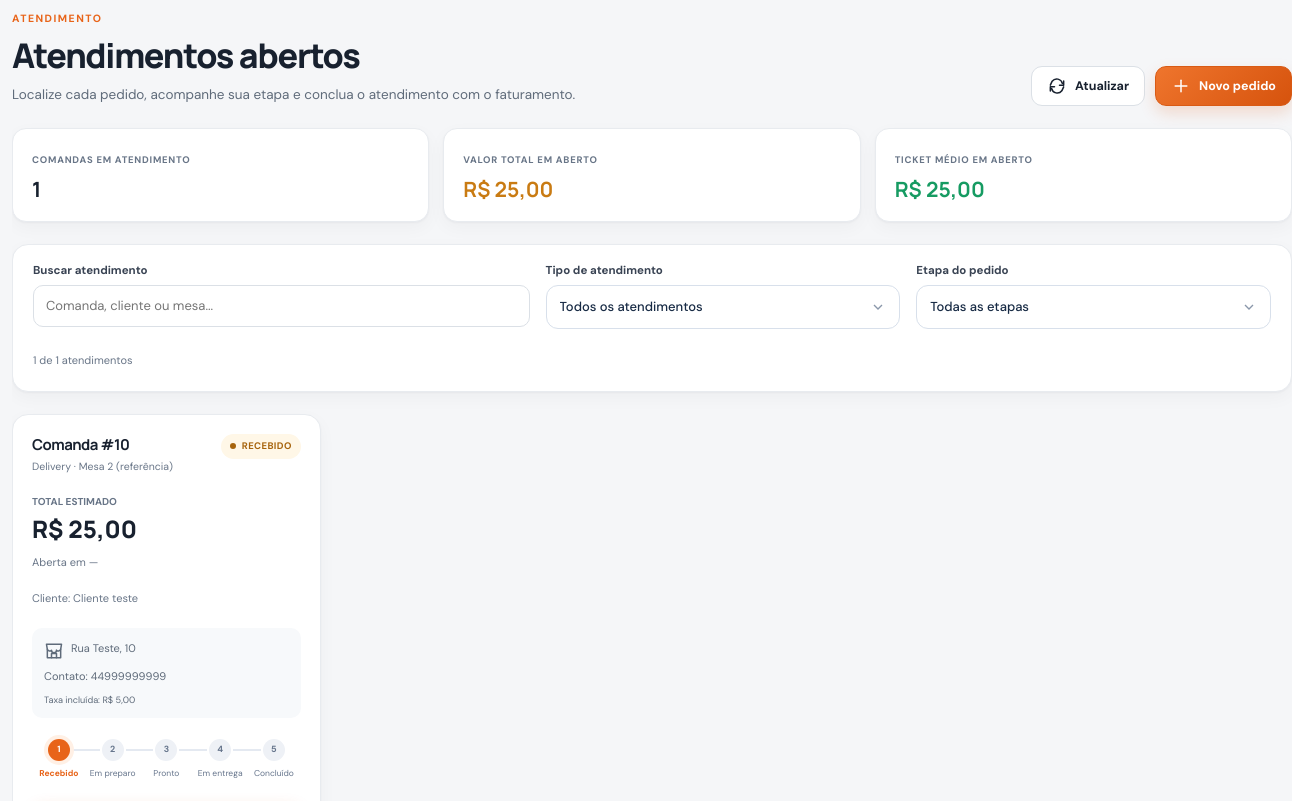
Test: busca e etapa filtram a lista e podem ser limpas
This screenshot has width=1292, height=801.
Expected: the heading "Comanda #10" is shown, [32,434,129,455]
Step 1. Type "inexistente" into the search field labelled "Buscar atendimento" → (281, 306), box [33,285,530,327]
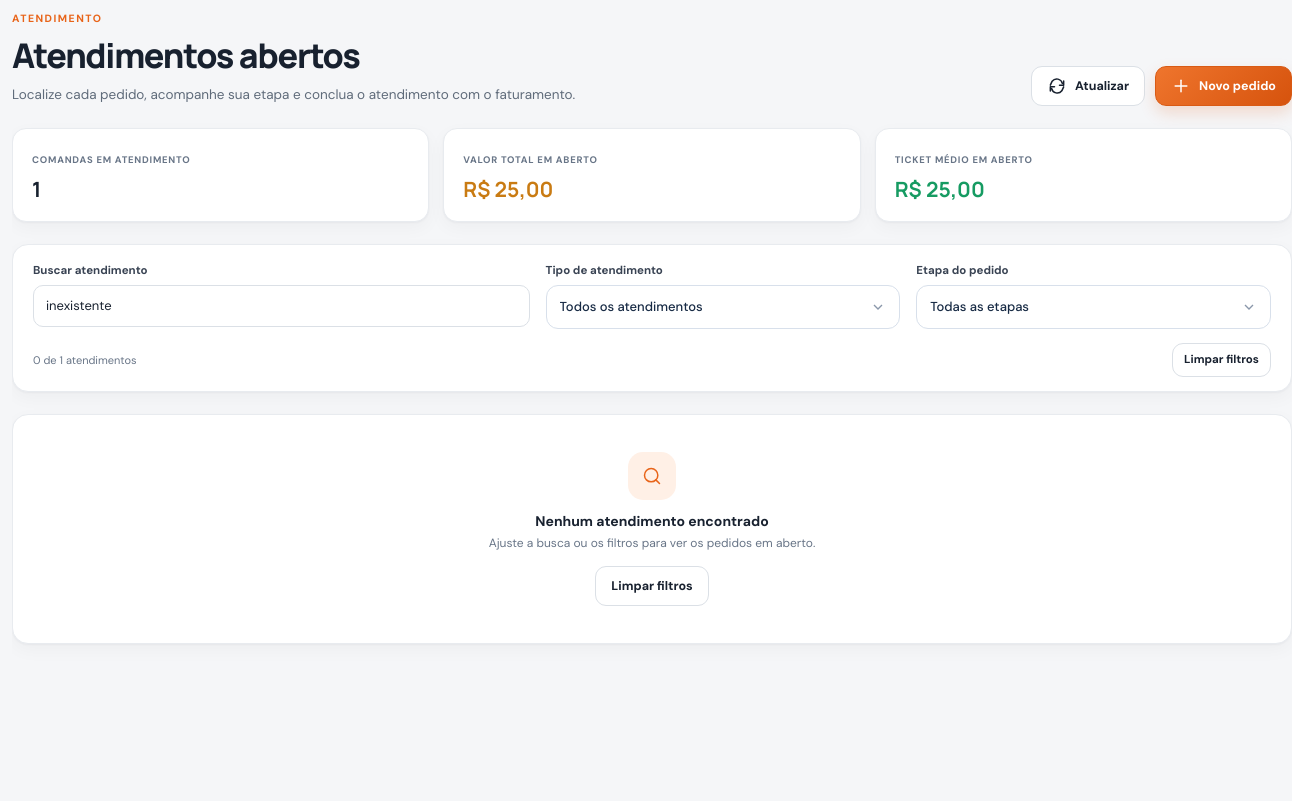
Expected: the text "Nenhum atendimento encontrado" is shown, [535,512,769,530]
Step 2. Click the button "Limpar filtros" below "Etapa do pedido" → (1222, 360), box [1172,343,1271,377]
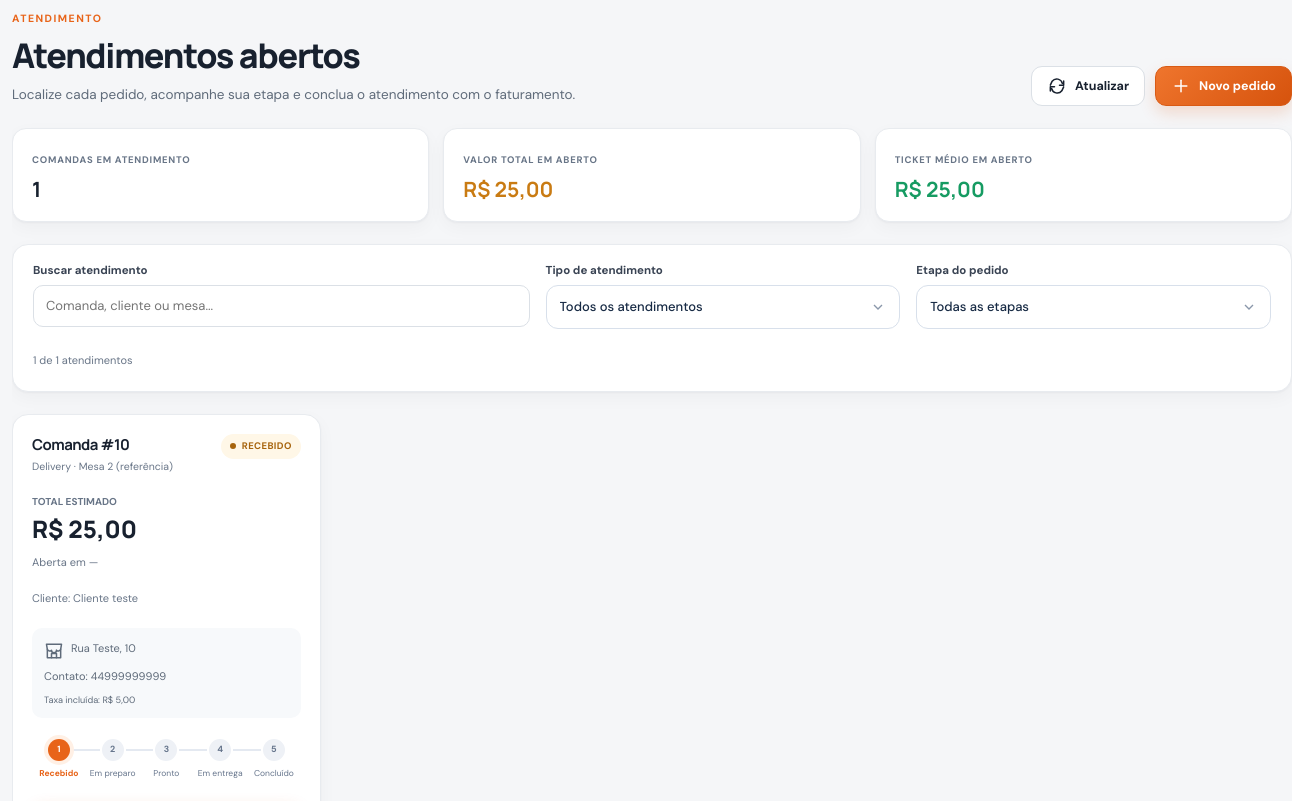
Step 3. Type "cliente" into the search field labelled "Buscar atendimento" → (281, 306), box [33,285,530,327]
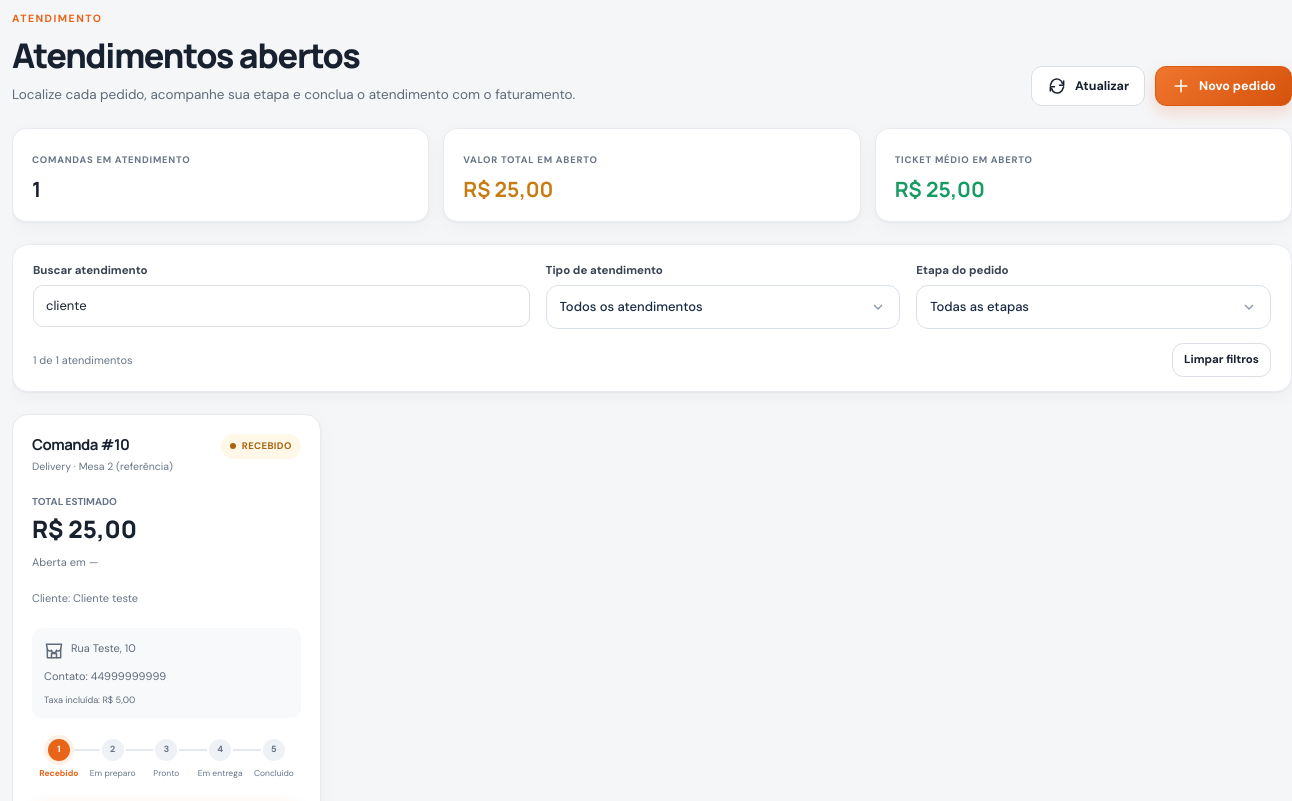
Expected: the heading "Comanda #10" is shown, [32,434,129,455]
Step 4. Select "Concluído" in the dropdown labelled "Etapa do pedido" → (962, 270), box [916,263,1009,278]
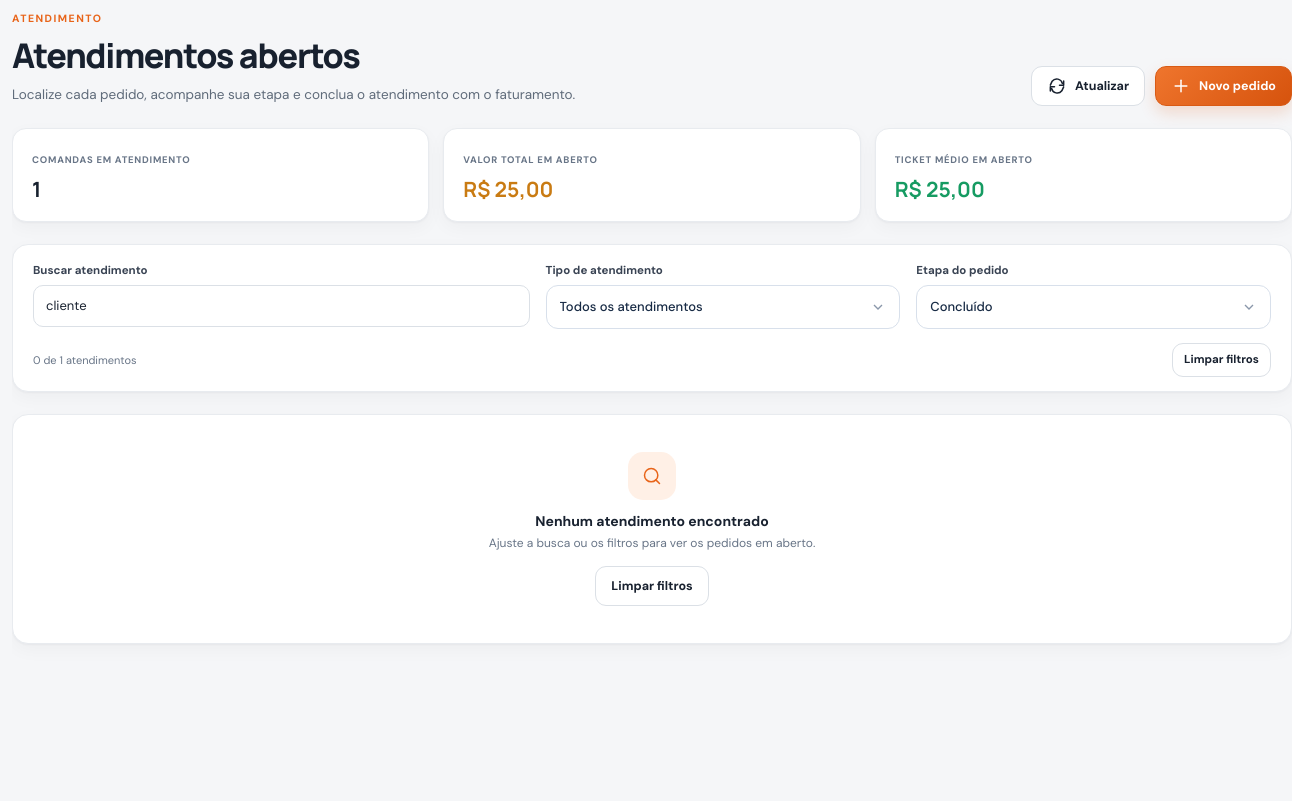
Expected: the heading "Comanda #10" is gone
Step 5. Select "Recebido" in the dropdown labelled "Etapa do pedido" → (962, 270), box [916,263,1009,278]
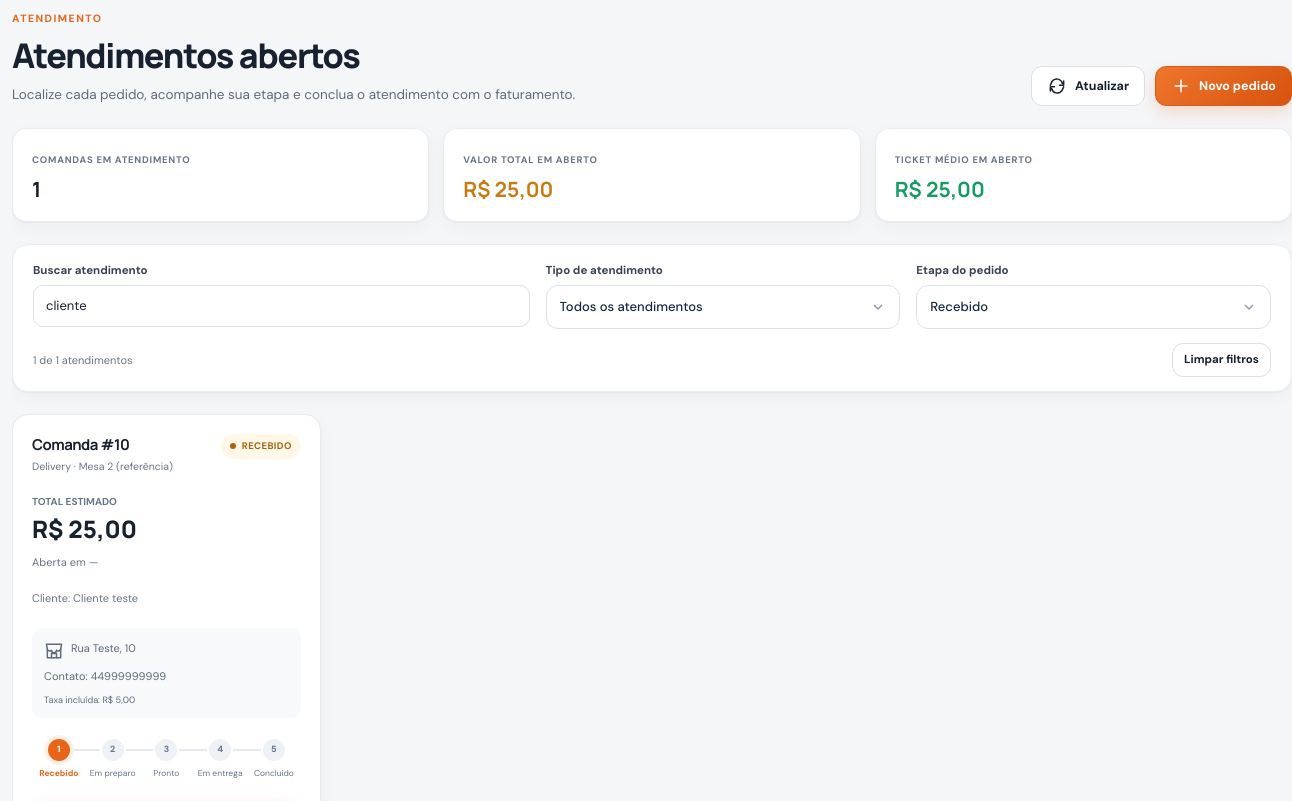
Expected: the heading "Comanda #10" is shown, [32,434,129,455]
